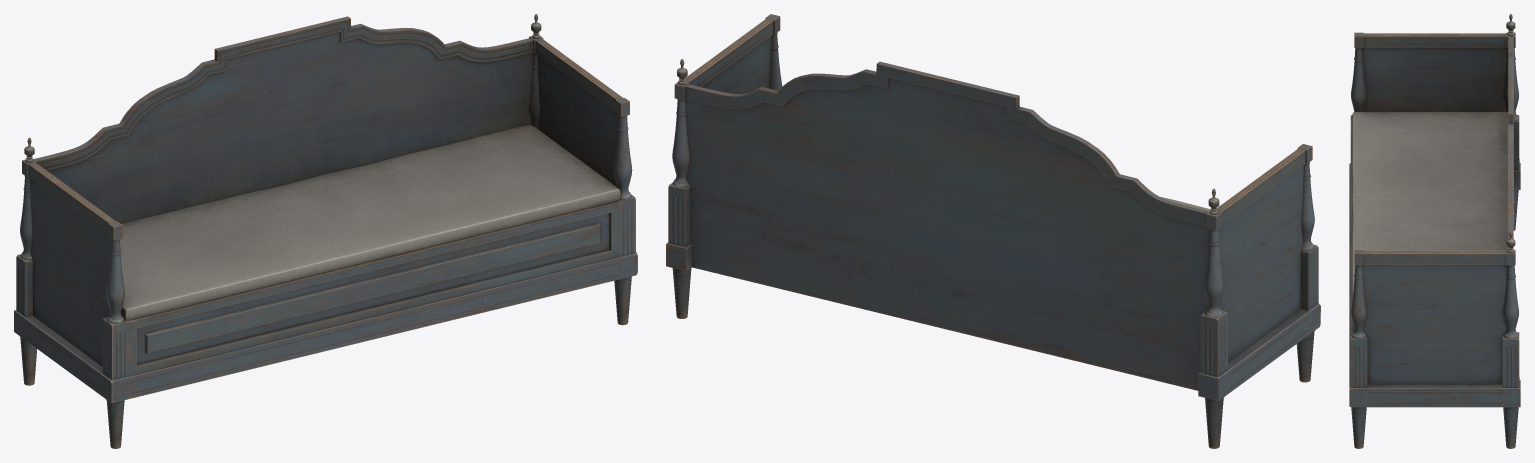
Rendered from sofa-painted-settle.glb.
3 views of the same model, side by side, from view 1: azimuth 30°, elevation 25°; view 2: azimuth 150°, elevation 25°; view 3: azimuth 270°, elevation 25° (orthographic). The views are drawn at different scales.
Visible parts, largest first — view 1: sofa-painted-settle; view 2: sofa-painted-settle; view 3: sofa-painted-settle.
Boxes of the visible parts, bbox=[...] form: sofa-painted-settle: bbox=[14, 14, 637, 448]; sofa-painted-settle: bbox=[666, 14, 1320, 448]; sofa-painted-settle: bbox=[1349, 14, 1520, 448].
Size of the model in its own units: 2.45 by 1.28 by 0.7873.
2 materials, 2 textured.
